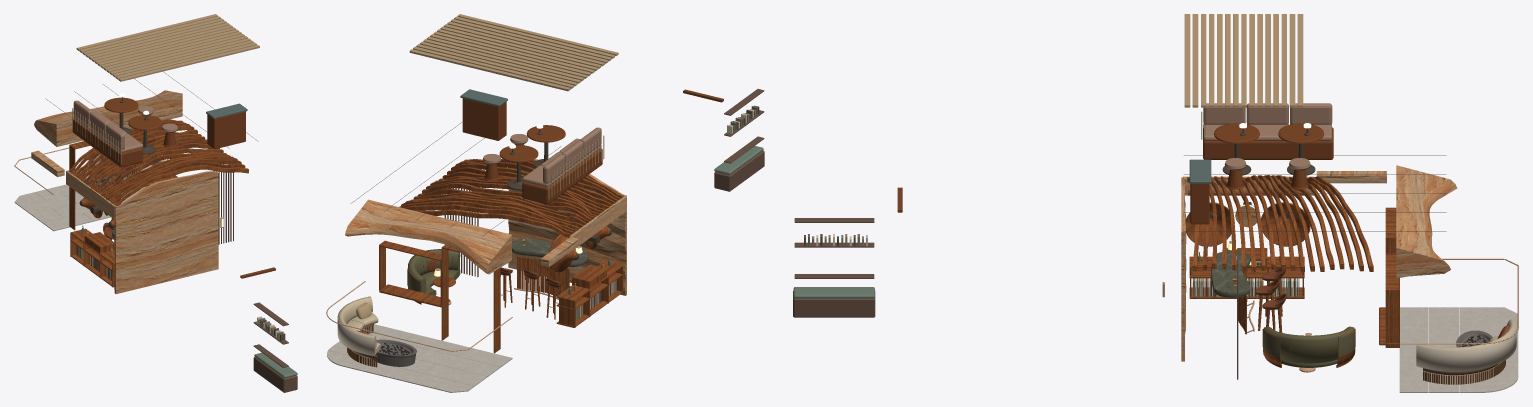
Rendered from detail-listening-bar.glb.
3 views of the same model, side by side, from view 1: azimuth 30°, elevation 25°; view 2: azimuth 150°, elevation 25°; view 3: azimuth 270°, elevation 25° (orthographic). The views are drawn at different scales.
Parts seen in each view (by area): view 1: core_speakeasy_loggia_wall_course__listening room sedimentar, core_listening_gallery_ceiling_slats__pale oak, core_speakeasy_loggia_ceiling_fan__listening room quarter-cu, core_speakeasy_loggia_quarry_eyebrow__listening room sedimen, core_speakeasy_loggia_paving__Loggia · sawn fossil limestone, core_listening_gallery_shelf__listening room quarter-cut wal, core_listening_gallery_bench__listening room quarter-cut wal, core_listening_gallery_bolster__bar saddle leather, core_listening_gallery_table__listening room quarter-cut wal, core_speakeasy_entry_reeds__bar smoked oak, core_speakeasy_lp_shelves__listening room quarter-cut walnut, core_listening_gallery_seat__bar saddle leather (+12 smaller); view 2: core_listening_gallery_ceiling_slats__pale oak, core_speakeasy_loggia_ceiling_fan__listening room quarter-cu, core_speakeasy_loggia_paving__Loggia · sawn fossil limestone, core_speakeasy_loggia_quarry_eyebrow__listening room sedimen, core_speakeasy_loggia_wall_course__listening room sedimentar, core_listening_gallery_shelf__listening room quarter-cut wal, core_speakeasy_loggia_door_lining__listening room quarter-cu, core_listening_gallery_bench__listening room quarter-cut wal, core_speakeasy_lp_shelves__listening room quarter-cut walnut, core_speakeasy_island_staves__listening room quarter-cut wal, core_listening_gallery_bolster__bar saddle leather, core_listening_gallery_table__listening room quarter-cut wal (+22 smaller); view 3: core_speakeasy_loggia_ceiling_fan__listening room quarter-cu, core_listening_gallery_ceiling_slats__pale oak, core_speakeasy_loggia_paving__Loggia · sawn fossil limestone, core_speakeasy_loggia_quarry_eyebrow__listening room sedimen, core_listening_gallery_bolster__bar saddle leather, core_speakeasy_loggia_bench_support__Loggia · shell limeston, core_listening_gallery_bench__listening room quarter-cut wal, core_speakeasy_sofa_back__bar moss mohair, core_speakeasy_horn_bell__listening room honey ash, core_speakeasy_study_bench__bar smoked oak, core_speakeasy_lp_shelves__listening room quarter-cut walnut, core_listening_gallery_table__listening room quarter-cut wal (+12 smaller).
Part boxes in pixels (bbox=[...]): core_speakeasy_loggia_wall_course__listening room sedimentar: bbox=[114, 171, 218, 293]; core_listening_gallery_ceiling_slats__pale oak: bbox=[76, 14, 259, 81]; core_speakeasy_loggia_ceiling_fan__listening room quarter-cu: bbox=[68, 119, 248, 206]; core_speakeasy_loggia_quarry_eyebrow__listening room sedimen: bbox=[34, 90, 182, 146]; core_speakeasy_loggia_paving__Loggia · sawn fossil limestone: bbox=[14, 172, 146, 231]; core_listening_gallery_shelf__listening room quarter-cut wal: bbox=[207, 111, 245, 149]; core_listening_gallery_bench__listening room quarter-cut wal: bbox=[72, 118, 142, 167]; core_listening_gallery_bolster__bar saddle leather: bbox=[73, 100, 124, 149]; core_listening_gallery_table__listening room quarter-cut wal: bbox=[104, 97, 162, 130]; core_speakeasy_entry_reeds__bar smoked oak: bbox=[213, 171, 233, 244]; core_speakeasy_lp_shelves__listening room quarter-cut walnut: bbox=[70, 228, 115, 287]; core_listening_gallery_seat__bar saddle leather: bbox=[73, 106, 177, 152]; core_listening_gallery_ceiling_slats__pale oak: bbox=[409, 14, 618, 91]; core_speakeasy_loggia_ceiling_fan__listening room quarter-cu: bbox=[399, 159, 623, 237]; core_speakeasy_loggia_paving__Loggia · sawn fossil limestone: bbox=[327, 324, 512, 392]; core_speakeasy_loggia_quarry_eyebrow__listening room sedimen: bbox=[345, 199, 511, 274]; core_speakeasy_loggia_wall_course__listening room sedimentar: bbox=[508, 159, 626, 295]; core_listening_gallery_shelf__listening room quarter-cut wal: bbox=[462, 98, 506, 140]; core_speakeasy_loggia_door_lining__listening room quarter-cu: bbox=[441, 244, 500, 353]; core_listening_gallery_bench__listening room quarter-cut wal: bbox=[522, 148, 602, 204]; core_speakeasy_lp_shelves__listening room quarter-cut walnut: bbox=[556, 261, 622, 327]; core_speakeasy_island_staves__listening room quarter-cut wal: bbox=[517, 256, 569, 296]; core_listening_gallery_bolster__bar saddle leather: bbox=[543, 127, 601, 183]; core_listening_gallery_table__listening room quarter-cut wal: bbox=[499, 125, 565, 162]; core_speakeasy_loggia_ceiling_fan__listening room quarter-cu: bbox=[1187, 175, 1373, 272]; core_listening_gallery_ceiling_slats__pale oak: bbox=[1184, 14, 1303, 107]; core_speakeasy_loggia_paving__Loggia · sawn fossil limestone: bbox=[1399, 307, 1518, 392]; core_speakeasy_loggia_quarry_eyebrow__listening room sedimen: bbox=[1396, 165, 1457, 278]; core_listening_gallery_bolster__bar saddle leather: bbox=[1203, 103, 1332, 124]; core_speakeasy_loggia_bench_support__Loggia · shell limeston: bbox=[1416, 318, 1516, 371]; core_listening_gallery_bench__listening room quarter-cut wal: bbox=[1203, 127, 1333, 159]; core_speakeasy_sofa_back__bar moss mohair: bbox=[1263, 326, 1354, 363]; core_speakeasy_horn_bell__listening room honey ash: bbox=[1186, 204, 1308, 245]; core_speakeasy_study_bench__bar smoked oak: bbox=[793, 291, 875, 317]; core_speakeasy_lp_shelves__listening room quarter-cut walnut: bbox=[1189, 256, 1304, 298]; core_listening_gallery_table__listening room quarter-cut wal: bbox=[1214, 123, 1323, 143].
Size of the model in its own units: 4.27 by 5.55 by 12.77.
Materials: 31 (11 with a texture image).
